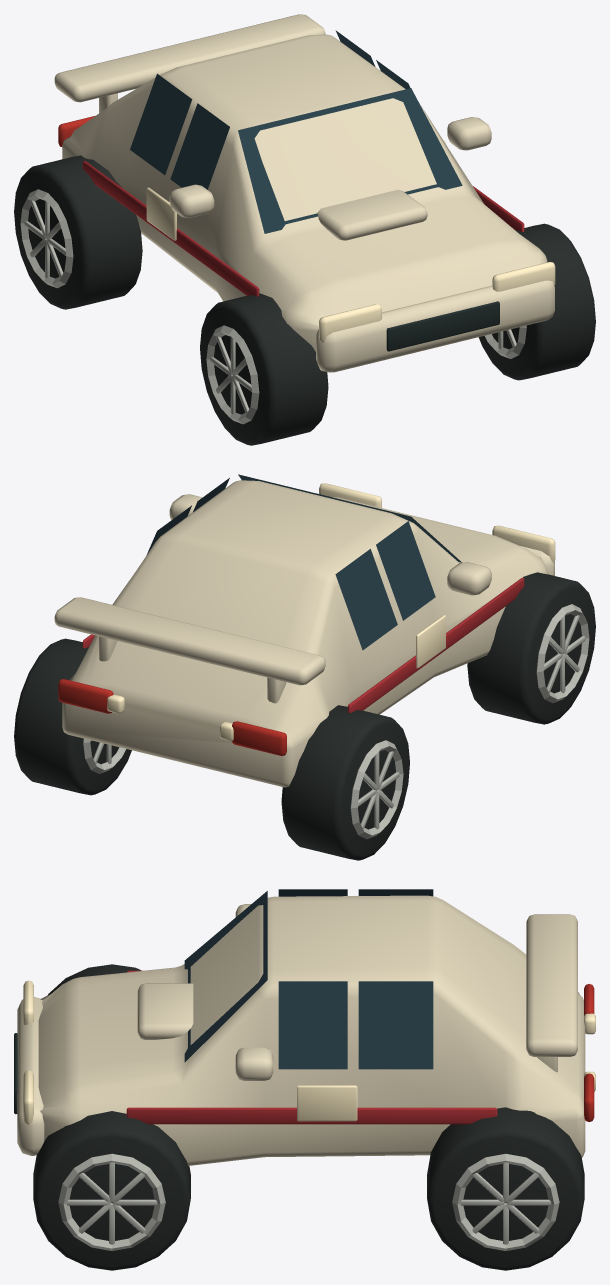
Rendered from car-3.glb.
3 views of the same model, one above another, from view 1: azimuth 30°, elevation 25°; view 2: azimuth 150°, elevation 25°; view 3: azimuth 270°, elevation 25° (orthographic). The views are drawn at different scales.
Visible parts, largest first — view 1: body_surface.003, flat_tyre.013, side_window.003, flat_tyre.012, flat_tyre.014, rally_stripe.003, rim.012, rim.013, intake.003, headlamp_-0.003, headlamp_0.003, door_number.003 (+1 smaller); view 2: body_surface.003, flat_tyre.013, flat_tyre.012, flat_tyre.015, side_window.003, rim.013, rim.012, rally_stripe.003, taillamp_-0.003, taillamp_0.003, door_number.003, headlamp_-0.003 (+2 smaller); view 3: body_surface.003, flat_tyre.015, side_window.003, flat_tyre.014, rally_stripe.003, rim.014, rim.015, door_number.003, flat_tyre.012, headlamp_0.003, taillamp_0.003.
Boxes of the visible parts, x1,y1,x2,y2 form: body_surface.003: (54,14,554,372); flat_tyre.013: (14,155,142,309); side_window.003: (130,30,462,233); flat_tyre.012: (200,293,328,445); flat_tyre.014: (478,223,595,380); rally_stripe.003: (82,160,524,296); rim.012: (206,325,259,424); rim.013: (20,189,73,288); intake.003: (386,301,499,351); headlamp_-0.003: (319,304,381,342); headlamp_0.003: (492,262,555,291); door_number.003: (146,140,445,240); body_surface.003: (54,480,554,787); flat_tyre.013: (281,705,409,860); flat_tyre.012: (467,572,595,724); flat_tyre.015: (14,638,131,795); side_window.003: (147,474,461,650); rim.013: (350,740,403,839); rim.012: (536,604,589,703); rally_stripe.003: (82,577,524,712); taillamp_-0.003: (232,721,286,755); taillamp_0.003: (58,679,113,713); door_number.003: (416,615,445,668); headlamp_-0.003: (492,525,555,562); body_surface.003: (17,895,585,1165); flat_tyre.015: (427,1107,584,1270); side_window.003: (184,889,433,1069); flat_tyre.014: (33,1111,190,1270); rally_stripe.003: (126,970,497,1124); rim.014: (58,1153,165,1250); rim.015: (452,1153,559,1250); door_number.003: (297,1085,357,1121); flat_tyre.012: (47,964,141,995); headlamp_0.003: (23,1070,33,1124); taillamp_0.003: (584,1073,594,1121).
Size of the model in its own units: 2.72 by 1.86 by 3.84.
